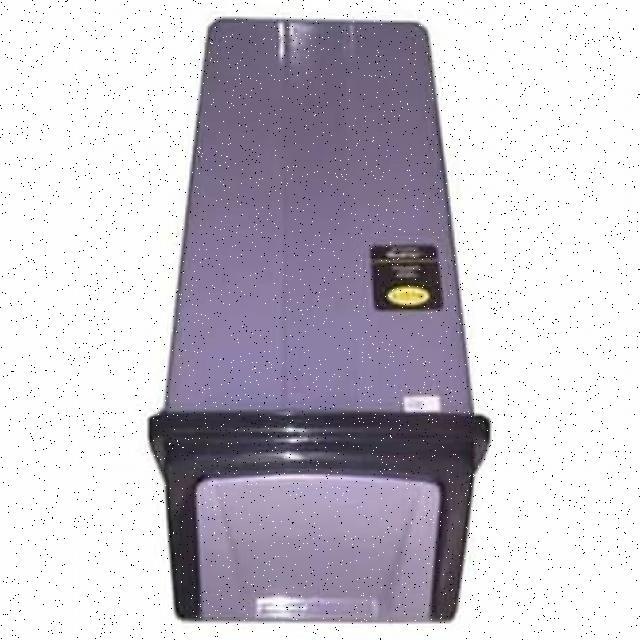garbage container: (92, 16, 574, 636)
